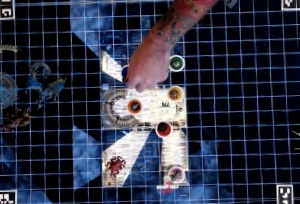blue: (119, 62, 136, 79)
green: (166, 51, 185, 71)
orange: (126, 96, 145, 114)
pink: (166, 163, 185, 183)
red: (155, 119, 173, 137)
yellow: (167, 83, 184, 102)
